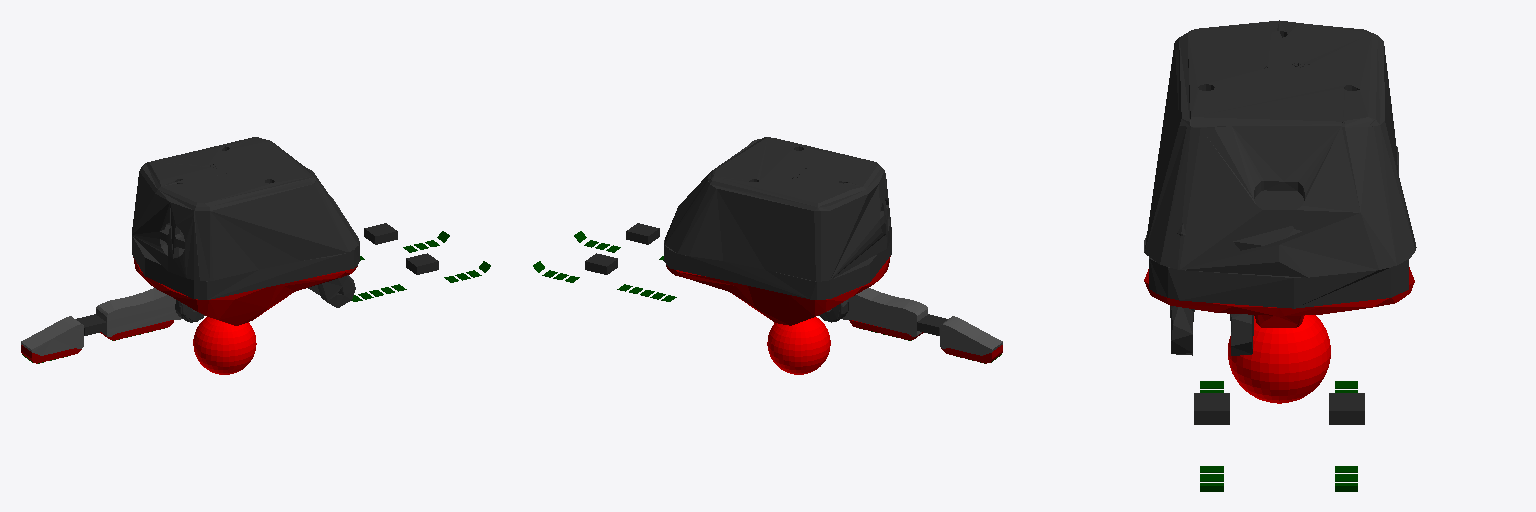
--- What the picture shows (computed from the rendered views, not written in the file) ---
Views: 3 orthographic renders of the robot side by side, from view 1: azimuth 30°, elevation 25°; view 2: azimuth 150°, elevation 25°; view 3: azimuth 270°, elevation 25°.
Model panda with 63 links and 62 joints (15 revolute, 47 fixed), rooted at panda_link0, posed all joints at 0.
Visible links, largest first — view 1: base_link, pad, end_effector, proximal_3, distal_3, swivel_2, flex_link_1, flex_link_2; view 2: base_link, pad, end_effector, proximal_3, distal_3, flex_link_2, flex_link_1; view 3: base_link, end_effector, pad, swivel_2, flex_link_1, flex_link_2.
Boxes of the visible links, x1,y1,x2,y2 form: base_link: (132, 137, 359, 322); pad: (133, 257, 357, 325); end_effector: (193, 317, 256, 374); proximal_3: (96, 288, 181, 336); distal_3: (21, 316, 83, 355); swivel_2: (308, 275, 355, 307); flex_link_1: (364, 223, 397, 244); flex_link_2: (406, 253, 438, 274); base_link: (664, 137, 891, 322); pad: (666, 256, 890, 325); end_effector: (767, 317, 830, 374); proximal_3: (842, 288, 927, 336); distal_3: (940, 316, 1002, 355); flex_link_2: (626, 223, 659, 244); flex_link_1: (585, 253, 617, 274); base_link: (1144, 20, 1416, 308); end_effector: (1228, 315, 1330, 403); pad: (1144, 267, 1414, 327); swivel_2: (1170, 306, 1253, 355); flex_link_1: (1329, 393, 1364, 424); flex_link_2: (1194, 393, 1229, 424).
Size in the robot's own frame: 0.3219 by 0.1054 by 0.14 metres.
Meshes: 24 distinct files referenced, 7 mesh visuals loaded (7 binary STL); not drawn: 17 (reference not matched to a file when rendering).

URDF robot description (panda):
<?xml version="1.0" ?>
<!-- =================================================================================== -->
<!-- |    This document was autogenerated by xacro from panda_arm_hand.urdf.xacro      | -->
<!-- |    EDITING THIS FILE BY HAND IS NOT RECOMMENDED                                 | -->
<!-- =================================================================================== -->
<robot name="panda" xmlns:xacro="http://www.ros.org/wiki/xacro">
  <link name="panda_link0">
  	<inertial>
      <origin rpy="0 0 0" xyz="0 0 0.05"/>
       <mass value="2.9"/>
       <inertia ixx="0.1" ixy="0" ixz="0" iyy="0.1" iyz="0" izz="0.1"/>
    </inertial>
    <visual>
      <geometry>
        <mesh filename="package://meshes/collision/link0.obj"/>
      </geometry>
      <material name="panda_white">
    		<color rgba="1. 1. 1. 1."/>
  		</material>
    </visual>
    <collision>
      <geometry>
        <mesh filename="package://meshes/collision/link0.obj"/>
      </geometry>
      <material name="panda_white"/>
    </collision>
  </link>
  <link name="panda_link1">
  	<inertial>
      <origin rpy="0 0 0" xyz="0 -0.04 -0.05"/>
       <mass value="2.7"/>
       <inertia ixx="0.1" ixy="0" ixz="0" iyy="0.1" iyz="0" izz="0.1"/>
    </inertial>
    <visual>
      <geometry>
        <mesh filename="package://meshes/visual/link1.obj"/>
      </geometry>
      <material name="panda_white"/>
    </visual>
    <collision>
      <geometry>
        <mesh filename="package://meshes/collision/link1.obj"/>
      </geometry>
      <material name="panda_white"/>
    </collision>
  </link>
  <joint name="panda_joint1" type="revolute">
    <safety_controller k_position="100.0" k_velocity="40.0" soft_lower_limit="-2.8973" soft_upper_limit="2.8973"/>
    <origin rpy="0 0 0" xyz="0 0 0.333"/>
    <parent link="panda_link0"/>
    <child link="panda_link1"/>
    <axis xyz="0 0 1"/>
    <limit effort="87" lower="-2.9671" upper="2.9671" velocity="2.1750"/>
  </joint>
  <link name="panda_link2">
  	<inertial>
      <origin rpy="0 0 0" xyz="0 -0.04 0.06"/>
       <mass value="2.73"/>
       <inertia ixx="0.1" ixy="0" ixz="0" iyy="0.1" iyz="0" izz="0.1"/>
    </inertial>
    <visual>
      <geometry>
        <mesh filename="package://meshes/visual/link2.obj"/>
      </geometry>
      <material name="panda_white"/>
    </visual>
    <collision>
      <geometry>
        <mesh filename="package://meshes/collision/link2.obj"/>
      </geometry>
      <material name="panda_white"/>
    </collision>
  </link>
  <joint name="panda_joint2" type="revolute">
    <safety_controller k_position="100.0" k_velocity="40.0" soft_lower_limit="-1.7628" soft_upper_limit="1.7628"/>
    <origin rpy="-1.57079632679 0 0" xyz="0 0 0"/>
    <parent link="panda_link1"/>
    <child link="panda_link2"/>
    <axis xyz="0 0 1"/>
    <limit effort="87" lower="-1.8326" upper="1.8326" velocity="2.1750"/>
  </joint>
  <link name="panda_link3">
	  <inertial>
      <origin rpy="0 0 0" xyz="0.01 0.01 -0.05"/>
       <mass value="2.04"/>
       <inertia ixx="0.1" ixy="0" ixz="0" iyy="0.1" iyz="0" izz="0.1"/>
    </inertial>
    <visual>
      <geometry>
        <mesh filename="package://meshes/visual/link3.obj"/>
      </geometry>
      <material name="panda_red">
    		<color rgba="1. 1. 1. 1."/>
  		</material>
    </visual>
    <collision>
      <geometry>
        <mesh filename="package://meshes/collision/link3.obj"/>
      </geometry>
    </collision>
  </link>
  <joint name="panda_joint3" type="revolute">
    <safety_controller k_position="100.0" k_velocity="40.0" soft_lower_limit="-2.8973" soft_upper_limit="2.8973"/>
    <origin rpy="1.57079632679 0 0" xyz="0 -0.316 0"/>
    <parent link="panda_link2"/>
    <child link="panda_link3"/>
    <axis xyz="0 0 1"/>
    <limit effort="87" lower="-2.9671" upper="2.9671" velocity="2.1750"/>
  </joint>
  <link name="panda_link4">
  	<inertial>
      <origin rpy="0 0 0" xyz="-0.03 0.03 0.02"/>
       <mass value="2.08"/>
       <inertia ixx="0.1" ixy="0" ixz="0" iyy="0.1" iyz="0" izz="0.1"/>
    </inertial>
    <visual>
      <geometry>
        <mesh filename="package://meshes/visual/link4.obj"/>
      </geometry>
      <material name="panda_white"/>
    </visual>
    <collision>
      <geometry>
        <mesh filename="package://meshes/collision/link4.obj"/>
      </geometry>
      <material name="panda_white"/>
    </collision>
  </link>
  <joint name="panda_joint4" type="revolute">
    <safety_controller k_position="100.0" k_velocity="40.0" soft_lower_limit="-3.0718" soft_upper_limit="-0.0698"/>
    <origin rpy="1.57079632679 0 0" xyz="0.0825 0 0"/>
    <parent link="panda_link3"/>
    <child link="panda_link4"/>
    <axis xyz="0 0 1"/>
    <limit effort="87" lower="-3.1416" upper="0.0" velocity="2.1750"/>
  </joint>
  <link name="panda_link5">
  	<inertial>
      <origin rpy="0 0 0" xyz="0 0.04 -0.12"/>
       <mass value="3"/>
       <inertia ixx="0.1" ixy="0" ixz="0" iyy="0.1" iyz="0" izz="0.1"/>
    </inertial>
    <visual>
      <geometry>
        <mesh filename="package://meshes/visual/link5.obj"/>
      </geometry>
      <material name="panda_white"/>
    </visual>
    <collision>
      <geometry>
        <mesh filename="package://meshes/collision/link5.obj"/>
      </geometry>
      <material name="panda_white"/>
    </collision>
  </link>
  <joint name="panda_joint5" type="revolute">
    <safety_controller k_position="100.0" k_velocity="40.0" soft_lower_limit="-2.8973" soft_upper_limit="2.8973"/>
    <origin rpy="-1.57079632679 0 0" xyz="-0.0825 0.384 0"/>
    <parent link="panda_link4"/>
    <child link="panda_link5"/>
    <axis xyz="0 0 1"/>
    <limit effort="12" lower="-2.9671" upper="2.9671" velocity="2.6100"/>
  </joint>
  <link name="panda_link6">
  	<inertial>
      <origin rpy="0 0 0" xyz="0.04 0 0"/>
       <mass value="1.3"/>
       <inertia ixx="0.1" ixy="0" ixz="0" iyy="0.1" iyz="0" izz="0.1"/>
    </inertial>
    <visual>
      <geometry>
        <mesh filename="package://meshes/visual/link6.obj"/>
      </geometry>
      <material name="panda_white"/>
    </visual>
    <collision>
      <geometry>
        <mesh filename="package://meshes/collision/link6.obj"/>
      </geometry>
      <material name="panda_white"/>
    </collision>
  </link>
  <joint name="panda_joint6" type="revolute">
    <safety_controller k_position="100.0" k_velocity="40.0" soft_lower_limit="-0.0175" soft_upper_limit="3.7525"/>
    <origin rpy="1.57079632679 0 0" xyz="0 0 0"/>
    <parent link="panda_link5"/>
    <child link="panda_link6"/>
    <axis xyz="0 0 1"/>
    <limit effort="12" lower="-0.0873" upper="3.8223" velocity="2.6100"/>
  </joint>
  <link name="panda_link7">
  	<inertial>
      <origin rpy="0 0 0" xyz="0 0 0.08"/>
       <mass value=".2"/>
       <inertia ixx="0.1" ixy="0" ixz="0" iyy="0.1" iyz="0" izz="0.1"/>
    </inertial>
    <visual>
      <geometry>
        <mesh filename="package://meshes/collision/link7.obj"/>
      </geometry>
      <material name="panda_white"/>
    </visual>
    <collision>
      <geometry>
        <mesh filename="package://meshes/collision/link7.obj"/>
      </geometry>
      <material name="panda_white"/>
    </collision>
  </link>
  <joint name="panda_joint7" type="revolute">
    <safety_controller k_position="100.0" k_velocity="40.0" soft_lower_limit="-2.8973" soft_upper_limit="2.8973"/>
    <origin rpy="1.57079632679 0 0" xyz="0.088 0 0"/>
    <parent link="panda_link6"/>
    <child link="panda_link7"/>
    <axis xyz="0 0 1"/>
    <limit effort="12" lower="-2.9671" upper="2.9671" velocity="2.6100"/>
  </joint>
  <link name="panda_link8">
  	 <inertial>
      <origin rpy="0 0 0" xyz="0 0 0"/>
       <mass value="0.0"/>
       <inertia ixx="0.1" ixy="0" ixz="0" iyy="0.1" iyz="0" izz="0.1"/>
    </inertial>
  </link>
  <joint name="panda_joint8" type="fixed">
    <origin rpy="0 0 0" xyz="0 0 0.107"/>
    <parent link="panda_link7"/>
    <child link="panda_link8"/>
    <axis xyz="0 0 0"/>
  </joint>
  
  
  
  
  
<!-- =================================================================================== -->
<!-- =================================================================================== -->
<!-- =================================================================================== -->
<!-- =================================================================================== -->
<!-- Reflex hand starts here -->


  <joint name="connecting_joint" type="fixed">
    <origin rpy="0 0 0" xyz="0 0 0"/>
    <parent link="panda_link8"/>
    <child link="base_link"/>
    <axis xyz="0 0 0"/>
  </joint>



<!-- Reflex hand starts here -->
<!-- =================================================================================== -->
<!-- =================================================================================== -->
<!-- =================================================================================== -->








<link name="flex_link_1">
    <visual>
      <origin xyz="0.008 0 0"/>
      <geometry>
        <box size="0.016 0.014 0.006"/>
      </geometry>
      <material name="dark gray">
        <color rgba="0.2 0.2 .2 1"/>
      </material>
    </visual>

    <inertial>
      <origin xyz="0.008 0 0"/>
      <mass value="0.002688"/>
      <inertia ixx="0.000000051968" ixy="0.0" ixz="0.0" iyy="0.000000065408" iyz="0.0" izz="0.000000101248"/>
    </inertial>
    <collision>
      <origin xyz="0.008 0 0"/>
      <geometry>
        <box size="0.016 0.014 0.006"/>
      </geometry>
    </collision>
  </link>
  <link name="flex_link_2">
    <visual>
      <origin xyz="0.008 0 0"/>
      <geometry>
        <box size="0.016 0.014 0.006"/>
      </geometry>
      <material name="dark gray">
        <color rgba="0.2 0.2 .2 1"/>
      </material>
    </visual>
    <!-- Mabel -->
    <inertial>
      <origin xyz="0.008 0 0"/>
      <mass value="0.002688"/>
      <inertia ixx="0.000000051968" ixy="0.0" ixz="0.0" iyy="0.000000065408" iyz="0.0" izz="0.000000101248"/>
    </inertial>
    <!-- Mabel -->
    <collision>
      <origin xyz="0.008 0 0"/>
      <geometry>
        <box size="0.016 0.014 0.006"/>
      </geometry>
    </collision>
  </link>
  <link name="flex_link_3">
    <visual>
      <origin xyz="0.008 0 0"/>
      <geometry>
        <box size="0.016 0.014 0.006"/>
      </geometry>
      <material name="dark gray">
        <color rgba="0.2 0.2 .2 1"/>
      </material>
    </visual>
    <!-- Mabel -->
    <inertial>
      <origin xyz="0.008 0 0"/>
      <mass value="0.002688"/>
      <inertia ixx="0.000000051968" ixy="0.0" ixz="0.0" iyy="0.000000065408" iyz="0.0" izz="0.000000101248"/>
    </inertial>
    <!-- Mabel -->
    <collision>
      <origin xyz="0.008 0 0"/>
      <geometry>
        <box size="0.016 0.014 0.006"/>
      </geometry>
    </collision>
  </link>
  <joint name="flex_joint_1" type="fixed">
    <parent link="proximal_1"/>
    <child link="flex_link_1"/>
    <origin xyz="0.06 0 0.003"/>
    <axis xyz="0 -1 0"/>
  </joint>
  <joint name="flex_joint_2" type="fixed">
    <parent link="proximal_2"/>
    <child link="flex_link_2"/>
    <origin xyz="0.06 0 0.003"/>
    <axis xyz="0 -1 0"/>
  </joint>
  <joint name="flex_joint_3" type="fixed">
    <parent link="proximal_3"/>
    <child link="flex_link_3"/>
    <origin xyz="0.06 0 0.003"/>
    <axis xyz="0 -1 0"/>
  </joint>
  <link name="base_link">
    <visual>
      <origin rpy="0 0 0" xyz="0 0 0"/>
      <geometry>
        <mesh filename="package://meshes/base_link.stl"/>
      </geometry>
      <material name="">
        <color rgba="0.22 0.22 0.22 1"/>
      </material>
    </visual>
    <collision>
      <origin rpy="0 0 0" xyz="0.014 0 0.051"/>
      <geometry>
        <box size="0.128 0.099 0.085"/>
      </geometry>
    </collision>
    <!-- Mabel -->
    <inertial>
      <origin xyz="0.006633 -0.000192 0.042664"/>
      <!-- Mesh Volume from MeshLab -->
      <mass value="0.271197"/>
      <inertia ixx="0.00035015" ixy="-0.00000237" ixz="-0.00000830" iyy="0.00052174" iyz="-0.00000051" izz="0.00061823"/>
    </inertial>
  </link>
  <link name="pad">
    <visual>
      <origin rpy="0 0 0" xyz="0 0 0"/>
      <geometry>
        <mesh filename="package://meshes/pad.stl"/>
      </geometry>
      <material name="">
        <color rgba="0.6 0.0 0.0 1"/>
        <!--    <color rgba="0.686 0.0706 0.8039 1"/> -->
      </material>
    </visual>
    <!-- Mabel -->
    <collision>
      <origin rpy="0 0 0" xyz="0 0 0"/>
      <geometry>
        <mesh filename="package://meshes/pad.stl"/>
      </geometry>
    </collision>
    <!-- Mabel -->
    <inertial>
      <!-- Center of Mass from MeshLab -->
      <origin xyz="0.000001 0.008858 0.013059"/>
      <!-- Mesh Volume from MeshLab -->
      <mass value="0.113819"/>
      <inertia ixx="0.00010653" ixy="-0.00000000" ixz="-0.00000001" iyy="0.00018331" iyz="-0.00000149" izz="0.00008642"/>
    </inertial>
  </link>
  <joint name="pad_joint" type="fixed">
    <origin rpy="1.5707963267949 5.55111512312578E-17 -1.5707963267949" xyz="0.02 0 0.063"/>
    <parent link="base_link"/>
    <child link="pad"/>
    <axis xyz="0 0 0"/>
  </joint>
  <link name="swivel_1">
    <visual>
      <origin rpy="0 0 0" xyz="0 0 0"/>
      <geometry>
        <mesh filename="package://meshes/swivel_1.stl"/>
      </geometry>
      <material name="">
        <color rgba="0.22 0.22 0.22 1"/>
      </material>
    </visual>
    <!-- Mabel -->
    <collision>
      <origin rpy="0 0 0" xyz="0 0 0"/>
      <geometry>
        <mesh filename="package://meshes/swivel_1.stl"/>
      </geometry>
    </collision>
    <!-- Mabel -->
    <inertial>
      <!-- Center of Mass from MeshLab -->
      <origin xyz="0.005259 -0.000001 0.011236"/>
      <!-- Mesh Volume from MeshLab -->
      <mass value="0.012584"/>
      <inertia ixx="0.00000232" ixy="0.00000000" ixz="-0.00000041" iyy="0.00000177" iyz="0.00000000" izz="0.00000237"/>
    </inertial>
  </link>
  <joint name="preshape_1" type="revolute">
    <!-- Mabel: None of the joints are really continuous. They should all be
      revolute.-->
    <!--type="continuous"-->
    <origin rpy="6.75550818663469E-16 1.97993848419069E-16 -2.77555756156289E-16" xyz="0.0503973683071414 -0.026 0.063"/>
    <parent link="base_link"/>
    <child link="swivel_1"/>
    <axis xyz="0 0 -1"/>
    <!-- Mabel. Limits from reflex/src/reflex/reflex_base_services.py PRESHAPE_MAX -->
    <limit effort="2.5" lower="0" upper="1.6" velocity="1.0"/>
  </joint>
  <link name="proximal_1">
    <visual>
      <origin rpy="0 0 0" xyz="0 0 0"/>
      <geometry>
        <mesh filename="package://meshes/proximal_1.stl"/>
      </geometry>
      <material name="">
        <color rgba="0.35 0.35 0.35 1"/>
      </material>
    </visual>
    <!-- Mabel -->
    <collision>
      <origin rpy="0 0 0" xyz="0 0 0"/>
      <geometry>
        <mesh filename="package://meshes/proximal_1.stl"/>
      </geometry>
    </collision>
    <!-- Mabel -->
    <inertial>
      <!-- Center of Mass from MeshLab -->
      <origin xyz="0.024094 0.000000 0.000819"/>
      <!-- Mesh Volume from MeshLab -->
      <mass value="0.017012"/>
      <inertia ixx="0.00000076" ixy="-0.00000000" ixz="-0.00000023" iyy="0.00000735" iyz="-0.00000000" izz="0.00000714"/>
    </inertial>
  </link>
  <joint name="proximal_joint_1" type="revolute">
    <!--type="continuous"-->
    <origin rpy="-6.20039667432211E-16 2.40507565059625E-17 2.22044604925031E-16" xyz="0.01 0 0.0186"/>
    <parent link="swivel_1"/>
    <child link="proximal_1"/>
    <axis xyz="0 -1 0"/>
    <!-- Mabel -->
    <limit effort="2.5" lower="0" upper="3.14" velocity="1.0"/>
  </joint>
  <link name="proximal_pad_1">
    <visual>
      <origin rpy="0 0 0" xyz="0 0 0"/>
      <geometry>
        <mesh filename="package://meshes/proximal_pad_1.stl"/>
      </geometry>
      <material name="">
        <color rgba="0.6 0.0 0.0 1"/>
        <!--    <color rgba="0.686 0.0706 0.8039 1"/> -->
      </material>
    </visual>
    <!-- Mabel -->
    <collision>
      <origin rpy="0 0 0" xyz="0 0 0"/>
      <geometry>
        <mesh filename="package://meshes/proximal_pad_1.stl"/>
      </geometry>
    </collision>
    <!-- Mabel -->
    <inertial>
      <!-- Center of Mass from MeshLab -->
      <origin xyz="0.000000 0.012215 -0.034120"/>
      <!-- Mesh Volume from MeshLab -->
      <mass value="0.003393"/>
      <inertia ixx="0.00000057" ixy="-0.0" ixz="-0.0" iyy="0.00000061" iyz="0.0" izz="0.00000006"/>
    </inertial>
  </link>
  <joint name="prox1_pad_joint" type="fixed">
    <origin rpy="1.5707963267949 0 -1.5707963267949" xyz="0 0 0"/>
    <parent link="proximal_1"/>
    <child link="proximal_pad_1"/>
    <axis xyz="0 0 0"/>
  </joint>
  <link name="distal_1">
    <visual>
      <origin rpy="0 0 0" xyz="0 0 0"/>
      <geometry>
        <mesh filename="package://meshes/distal_1.stl"/>
      </geometry>
      <material name="">
        <color rgba="0.35 0.35 0.35 1"/>
      </material>
    </visual>
    <!-- Mabel -->
    <collision>
      <origin rpy="0 0 0" xyz="0 0 0"/>
      <geometry>
        <mesh filename="package://meshes/distal_1.stl"/>
      </geometry>
    </collision>
    <!-- Mabel -->
    <inertial>
      <!-- Center of Mass from MeshLab -->
      <origin xyz="0.015422 -0.000000 0.000877"/>
      <!-- Mesh Volume from MeshLab -->
      <mass value="0.005978"/>
      <inertia ixx="0.00000019" ixy="-0.0" ixz="-0.00000006" iyy="0.00000070" iyz="0.0" izz="0.00000071"/>
    </inertial>
  </link>
  <joint name="distal_joint_1" type="revolute">
    <!--type="continuous"-->
    <!--origin
      xyz="0.0760000000000001} 0 0.00250000000000002"
      rpy="0 0 0" />
    <parent
      link="proximal_1" /-->
    <!-- Mabel, after adding rigid link btw proximal and distal links. Since
       distal link cannot have two parents (violates SDF and Gazebo rules),
       flex link and proximal link cannot both be distal's parent. So we need
       to link in serial like so, not in parallel:
         proximal -> prox_to_flex_joint -> flex_link -> flex_to_distal_joint
           -> distal.
       We'll ust the distal_joint_# as the joint from flex to distal.
       Joint from prox to flex, and flex_link, are at top of file.
     -->
    <origin rpy="0 0 0" xyz="0.016 0 0.00250000000000002"/>
    <parent link="flex_link_1"/>
    <child link="distal_1"/>
    <axis xyz="0 -1 0"/>
    <!-- Mabel -->
    <limit effort="0.25" lower="0" upper="2.74" velocity="1.0"/>
  </joint>
  <link name="distal_pad_1">
    <visual>
      <origin rpy="0 0 0" xyz="0 0 0"/>
      <geometry>
        <mesh filename="package://meshes/distal_pad_1.stl"/>
      </geometry>
      <material name="">
        <color rgba="0.6 0.0 0.0 1"/>
        <!--    <color rgba="0.686 0.0706 0.8039 1"/> -->
      </material>
    </visual>
    <!-- Mabel -->
    <collision>
      <origin rpy="0 0 0" xyz="0 0 0"/>
      <geometry>
        <mesh filename="package://meshes/distal_pad_1.stl"/>
      </geometry>
    </collision>
    <!-- Mabel -->
    <inertial>
      <!-- Center of Mass from MeshLab -->
      <origin xyz="0.000000 0.011884 -0.097534"/>
      <!-- Mesh Volume from MeshLab -->
      <mass value="0.002782"/>
      <inertia ixx="0.00000030" ixy="-0.0" ixz="0.0" iyy="0.00000034" iyz="-0.00000002" izz="0.00000005"/>
    </inertial>
  </link>
  <joint name="dist1_pad_joint" type="fixed">
    <origin rpy="1.5707963267949 0 -1.5707963267949" xyz="-0.0760000000000001 0 -0.0025"/>
    <parent link="distal_1"/>
    <child link="distal_pad_1"/>
    <axis xyz="0 0 0"/>
  </joint>
  <link name="swivel_2">
    <visual>
      <origin rpy="0 0 0" xyz="0 0 0"/>
      <geometry>
        <mesh filename="package://meshes/swivel_2.stl"/>
      </geometry>
      <material name="">
        <color rgba="0.22 0.22 0.22 1"/>
      </material>
    </visual>
    <!-- Mabel -->
    <collision>
      <origin rpy="0 0 0" xyz="0 0 0"/>
      <geometry>
        <mesh filename="package://meshes/swivel_2.stl"/>
      </geometry>
    </collision>
    <!-- Mabel -->
    <inertial>
      <!-- Center of Mass from MeshLab -->
      <origin xyz="0.005259 -0.000001 0.011236"/>
      <!-- Mesh Volume from MeshLab -->
      <mass value="0.012584"/>
      <inertia ixx="0.00000232" ixy="0.0" ixz="-0.00000041" iyy="0.00000177" iyz="0.0" izz="0.00000237"/>
    </inertial>
  </link>
  <joint name="preshape_2" type="revolute">
    <!--type="continuous"-->
    <origin rpy="1.22459340959228E-15 -7.33448407631817E-16 -1.66533453693773E-16" xyz="0.0503973683071413 0.0259999999999999 0.063"/>
    <parent link="base_link"/>
    <child link="swivel_2"/>
    <axis xyz="0 0 -1"/>
    <!-- Mabel. Limits from reflex/src/reflex/reflex_base_services.py PRESHAPE_MAX -->
    <limit effort="2.5" lower="-1.6" upper="0" velocity="1.0"/>
  </joint>
  <link name="proximal_2">
    <visual>
      <origin rpy="0 0 0" xyz="0 0 0"/>
      <geometry>
        <mesh filename="package://meshes/proximal_2.stl"/>
      </geometry>
      <material name="">
        <color rgba="0.35 0.35 0.35 1"/>
      </material>
    </visual>
    <!-- Mabel -->
    <collision>
      <origin rpy="0 0 0" xyz="0 0 0"/>
      <geometry>
        <mesh filename="package://meshes/proximal_2.stl"/>
      </geometry>
    </collision>
    <!-- Mabel -->
    <inertial>
      <!-- Center of Mass from MeshLab -->
      <origin xyz="0.024094 0.000000 0.000819"/>
      <!-- Mesh Volume from MeshLab -->
      <mass value="0.017012"/>
      <inertia ixx="0.00000076" ixy="-0.0" ixz="-0.00000023" iyy="0.00000735" iyz="-0.0" izz="0.00000714"/>
    </inertial>
  </link>
  <joint name="proximal_joint_2" type="revolute">
    <!--type="continuous"-->
    <origin rpy="-1.16908225836102E-15 9.55493012556849E-16 1.11022302462515E-16" xyz="0.01 0 0.0186"/>
    <parent link="swivel_2"/>
    <child link="proximal_2"/>
    <axis xyz="0 -1 0"/>
    <!-- Mabel -->
    <limit effort="2.5" lower="0" upper="3.14" velocity="1.0"/>
  </joint>
  <link name="proximal_pad_2">
    <visual>
      <origin rpy="0 0 0" xyz="0 0 0"/>
      <geometry>
        <mesh filename="package://meshes/proximal_pad_2.stl"/>
      </geometry>
      <material name="">
        <color rgba="0.6 0.0 0.0 1"/>
        <!--    <color rgba="0.686 0.0706 0.8039 1"/> -->
      </material>
    </visual>
    <!-- Mabel -->
    <collision>
      <origin rpy="0 0 0" xyz="0 0 0"/>
      <geometry>
        <mesh filename="package://meshes/proximal_pad_2.stl"/>
      </geometry>
    </collision>
    <!-- Mabel -->
    <inertial>
      <!-- Center of Mass from MeshLab -->
      <origin xyz="0.000000 0.012215 -0.034120"/>
      <!-- Mesh Volume from MeshLab -->
      <mass value="0.003393"/>
      <inertia ixx="0.00000057" ixy="-0.0" ixz="-0.0" iyy="0.00000061" iyz="0.0" izz="0.00000006"/>
    </inertial>
  </link>
  <joint name="prox2_pad_joint" type="fixed">
    <origin rpy="1.5707963267949 0 -1.5707963267949" xyz="0 0 0"/>
    <parent link="proximal_2"/>
    <child link="proximal_pad_2"/>
    <axis xyz="0 0 0"/>
  </joint>
  <link name="distal_2">
    <visual>
      <origin rpy="0 0 0" xyz="0 0 0"/>
      <geometry>
        <mesh filename="package://meshes/distal_2.stl"/>
      </geometry>
      <material name="">
        <color rgba="0.35 0.35 0.35 1"/>
      </material>
    </visual>
    <!-- Mabel -->
    <collision>
      <origin rpy="0 0 0" xyz="0 0 0"/>
      <geometry>
        <mesh filename="package://meshes/distal_2.stl"/>
      </geometry>
    </collision>
    <!-- Mabel -->
    <inertial>
      <!-- Center of Mass from MeshLab -->
      <origin xyz="0.015422 -0.000000 0.000877"/>
      <!-- Mesh Volume from MeshLab -->
      <mass value="0.005978"/>
      <inertia ixx="0.00000019" ixy="-0.0" ixz="-0.00000006" iyy="0.00000070" iyz="0.0" izz="0.00000071"/>
    </inertial>
  </link>
  <joint name="distal_joint_2" type="revolute">
    <!--type="continuous"-->
    <!--origin
      xyz="0.0760000000000001 0 0.00249999999999997"
      rpy="0 0 0" />
    <parent
      link="proximal_2" /-->
    <!-- Mabel -->
    <origin rpy="0 0 0" xyz="0.016 0 0.00249999999999997"/>
    <parent link="flex_link_2"/>
    <child link="distal_2"/>
    <axis xyz="0 -1 0"/>
    <!-- Mabel -->
    <limit effort="0.25" lower="0" upper="2.74" velocity="1.0"/>
  </joint>
  <link name="distal_pad_2">
    <visual>
      <origin rpy="0 0 0" xyz="0 0 0"/>
      <geometry>
        <mesh filename="package://meshes/distal_pad_2.stl"/>
      </geometry>
      <material name="">
        <color rgba="0.6 0.0 0.0 1"/>
        <!--    <color rgba="0.686 0.0706 0.8039 1"/> -->
      </material>
    </visual>
    <!-- Mabel -->
    <collision>
      <origin rpy="0 0 0" xyz="0 0 0"/>
      <geometry>
        <mesh filename="package://meshes/distal_pad_2.stl"/>
      </geometry>
    </collision>
    <!-- Mabel -->
    <inertial>
      <!-- Center of Mass from MeshLab -->
      <origin xyz="0.000000 0.011884 -0.097534"/>
      <!-- Mesh Volume from MeshLab -->
      <mass value="0.002782"/>
      <inertia ixx="0.00000030" ixy="-0.0" ixz="0.0" iyy="0.00000034" iyz="-0.00000002" izz="0.00000005"/>
    </inertial>
  </link>
  <joint name="dist2_pad_joint" type="fixed">
    <origin rpy="1.5707963267949 0 -1.5707963267949" xyz="-0.0760000000000001 0 -0.0025"/>
    <parent link="distal_2"/>
    <child link="distal_pad_2"/>
    <axis xyz="0 0 0"/>
  </joint>
  <link name="proximal_3">
    <visual>
      <origin rpy="0 0 0" xyz="0 0 0"/>
      <geometry>
        <mesh filename="package://meshes/proximal_3.stl"/>
      </geometry>
      <material name="">
        <color rgba="0.35 0.35 0.35 1"/>
      </material>
    </visual>
    <!-- Mabel -->
    <collision>
      <origin rpy="0 0 0" xyz="0 0 0"/>
      <geometry>
        <mesh filename="package://meshes/proximal_3.stl"/>
      </geometry>
    </collision>
    <!-- Mabel -->
    <inertial>
      <!-- Center of Mass from MeshLab -->
      <origin xyz="0.024094 0.000000 0.000819"/>
      <!-- Mesh Volume from MeshLab -->
      <mass value="0.017012"/>
      <inertia ixx="0.00000076" ixy="-0.0" ixz="-0.00000023" iyy="0.00000735" iyz="-0.0" izz="0.00000714"/>
    </inertial>
  </link>
  <joint name="proximal_joint_3" type="revolute">
    <!--type="continuous"-->
    <origin rpy="-5.55111512312578E-17 -2.22044604925031E-16 3.14159265358979" xyz="-0.0299999999999996 0 0.0816000000000002"/>
    <parent link="base_link"/>
    <child link="proximal_3"/>
    <axis xyz="0 -1 0"/>
    <!-- Mabel -->
    <limit effort="2.5" lower="0" upper="3.14" velocity="1.0"/>
  </joint>
  <link name="proximal_pad_3">
    <visual>
      <origin rpy="0 0 0" xyz="0 0 0"/>
      <geometry>
        <mesh filename="package://meshes/proximal_pad_3.stl"/>
      </geometry>
      <material name="">
        <color rgba="0.6 0.0 0.0 1"/>
        <!--    <color rgba="0.686 0.0706 0.8039 1"/> -->
      </material>
    </visual>
    <!-- Mabel -->
    <collision>
      <origin rpy="0 0 0" xyz="0 0 0"/>
      <geometry>
        <mesh filename="package://meshes/proximal_pad_3.stl"/>
      </geometry>
    </collision>
    <!-- Mabel -->
    <inertial>
      <!-- Center of Mass from MeshLab -->
      <origin xyz="0.000000 0.012215 -0.034120"/>
      <!-- Mesh Volume from MeshLab -->
      <mass value="0.003393"/>
      <inertia ixx="0.00000057" ixy="-0.0" ixz="-0.0" iyy="0.00000061" iyz="0.0" izz="0.00000006"/>
    </inertial>
  </link>
  <joint name="prox3_pad_joint" type="fixed">
    <origin rpy="1.5707963267949 1.22460635382238E-16 -1.5707963267949" xyz="0 0 0"/>
    <parent link="proximal_3"/>
    <child link="proximal_pad_3"/>
    <axis xyz="0 0 0"/>
  </joint>
  <link name="distal_3">
    <visual>
      <origin rpy="0 0 0" xyz="0 0 0"/>
      <geometry>
        <mesh filename="package://meshes/distal_3.stl"/>
      </geometry>
      <material name="">
        <color rgba="0.35 0.35 0.35 1"/>
      </material>
    </visual>
    <!-- Mabel -->
    <collision>
      <origin rpy="0 0 0" xyz="0 0 0"/>
      <geometry>
        <mesh filename="package://meshes/distal_3.stl"/>
      </geometry>
    </collision>
    <!-- Mabel -->
    <inertial>
      <!-- Center of Mass from MeshLab -->
      <origin xyz="0.015422 -0.000000 0.000877"/>
      <!-- Mesh Volume from MeshLab -->
      <mass value="0.005978"/>
      <inertia ixx="0.00000019" ixy="-0.0" ixz="-0.00000006" iyy="0.00000070" iyz="0.0" izz="0.00000071"/>
    </inertial>
  </link>
  <joint name="distal_joint_3" type="revolute">
    <!--type="continuous"-->
    <!--origin
      xyz="0.0760000000000001 0 0.0025"
      rpy="-1.48887961834512E-45 -1.0995850059156E-76 -7.38531841236285E-32" />
    <parent
      link="proximal_3" /-->
    <!-- Mabel -->
    <origin rpy="0 0 0" xyz="0.016 0 0.0025"/>
    <parent link="flex_link_3"/>
    <child link="distal_3"/>
    <axis xyz="0 -1 0"/>
    <!-- Mabel -->
    <limit effort="0.25" lower="0" upper="2.74" velocity="1.0"/>
  </joint>
  <link name="distal_pad_3">
    <visual>
      <origin rpy="0 0 0" xyz="0 0 0"/>
      <geometry>
        <mesh filename="package://meshes/distal_pad_3.stl"/>
      </geometry>
      <material name="">
        <color rgba="0.6 0.0 0.0 1"/>
        <!--    <color rgba="0.686 0.0706 0.8039 1"/> -->
      </material>
    </visual>
    <!-- Mabel -->
    <collision>
      <origin rpy="0 0 0" xyz="0 0 0"/>
      <geometry>
        <mesh filename="package://meshes/distal_pad_3.stl"/>
      </geometry>
    </collision>
    <!-- Mabel -->
    <inertial>
      <!-- Center of Mass from MeshLab -->
      <origin xyz="0.000000 0.011884 -0.097534"/>
      <!-- Mesh Volume from MeshLab -->
      <mass value="0.002782"/>
      <inertia ixx="0.00000030" ixy="-0.0" ixz="0.0" iyy="0.00000034" iyz="-0.00000002" izz="0.00000005"/>
    </inertial>
  </link>
  <joint name="dist3_pad_joint" type="fixed">
    <origin rpy="1.5707963267949 -1.22460635382238E-16 -1.5707963267949" xyz="-0.0760000000000001 0 -0.0025"/>
    <parent link="distal_3"/>
    <child link="distal_pad_3"/>
    <axis xyz="0 0 0"/>
  </joint>
  <!-- ################ ################ ################ ################ ################ ################ -->
  <!-- ################ THIS SECTION LINKS THE MARKERS (TACTILE DATA) TO THE CAD MESH ################ -->
  <!-- ################ COPY AND PASTE THIS FROM urdf/homemade_marker_portion_urdf  ################ -->
  <!-- ################ ################ ################ ################ ################ ################ -->
  <joint name="base_tactile_joint" type="fixed">
    <origin rpy="0 0 0" xyz="0 0 0"/>
    <parent link="base_link"/>
    <child link="base_tactile"/>
  </joint>
  <link name="base_tactile"/>
  <link name="proximal_1_tactile">
    <!-- Mabel: Added nonzero mass so link doesn't disappear in SDF -->
    <inertial>
      <mass value="0.001"/>
      <inertia ixx="0.000000001" ixy="0.0" ixz="0.0" iyy="0.000000001" iyz="0.0" izz="0.000000001"/>
    </inertial>
  </link>
  <!-- Mabel: Defining as explicit revolute, with 0 limits, so child link shows
    up explicitly in SDF. Original all _tactile_joint's were type fixed.
    But defining as revolute means someone (hand_visualizer.cpp) needs to
    publish the joint values of these joints to /joint_states, otherwise
    they will not have a tf!!!
    Changing back to fixed type. `.` I don't know if I need them to be
    revolute. Why did I want them to show up in sdf anyway? Probably just
    for debugging when I was still developing this file to be Gazebo-legal!
    Probably don't need these to be revolute. -->
  <!--joint name="proximal_1_tactile_joint" type="revolute"-->
  <joint name="proximal_1_tactile_joint" type="fixed">
    <origin rpy="0 0 0" xyz="0 0 0"/>
    <parent link="proximal_1"/>
    <child link="proximal_1_tactile"/>
    <!--limit effort="0" velocity="0" lower="0" upper="0" /-->
  </joint>
  <!--joint name="proximal_2_tactile_joint" type="revolute"-->
  <joint name="proximal_2_tactile_joint" type="fixed">
    <origin rpy="0 0 0" xyz="0 0 0"/>
    <parent link="proximal_2"/>
    <child link="proximal_2_tactile"/>
    <!--limit effort="0" velocity="0" lower="0" upper="0" /-->
  </joint>
  <link name="proximal_2_tactile">
    <!-- Mabel: Added nonzero mass so link doesn't disappear in SDF -->
    <inertial>
      <mass value="0.001"/>
      <inertia ixx="0.000000001" ixy="0.0" ixz="0.0" iyy="0.000000001" iyz="0.0" izz="0.000000001"/>
    </inertial>
  </link>
  <!-- 24 Jan 2017: Changing back to fixed, so they show up in robot tree -->
  <!--joint name="proximal_3_tactile_joint" type="revolute"-->
  <joint name="proximal_3_tactile_joint" type="fixed">
    <origin rpy="0 0 0" xyz="0 0 0"/>
    <parent link="proximal_3"/>
    <child link="proximal_3_tactile"/>
    <!--limit effort="0" velocity="0" lower="0" upper="0" /-->
  </joint>
  <link name="proximal_3_tactile">
    <!-- Mabel: Added nonzero mass so link doesn't disappear in SDF -->
    <inertial>
      <mass value="0.001"/>
      <inertia ixx="0.000000001" ixy="0.0" ixz="0.0" iyy="0.000000001" iyz="0.0" izz="0.000000001"/>
    </inertial>
  </link>
  <!-- 24 Jan 2017: Changing back to fixed, so they show up in robot tree -->
  <!--joint name="distal_1_tactile_joint" type="revolute"-->
  <joint name="distal_1_tactile_joint" type="fixed">
    <origin rpy="0 0 0" xyz="0 0 0"/>
    <parent link="distal_1"/>
    <child link="distal_1_tactile"/>
    <!--limit effort="0" velocity="0" lower="0" upper="0" /-->
  </joint>
  <link name="distal_1_tactile">
    <!-- Mabel: Added nonzero mass so link doesn't disappear in SDF -->
    <inertial>
      <mass value="0.001"/>
      <inertia ixx="0.000000001" ixy="0.0" ixz="0.0" iyy="0.000000001" iyz="0.0" izz="0.000000001"/>
    </inertial>
  </link>
  <!-- 24 Jan 2017: Why isn't this revolute??? Did I just forget about it?? TODO
    That is why in rosrun tf view_frames frames.pdf, distal_2 and distal_3 have
    children distal_2_tactile and distal_3_tactile, but distal_1 doesn't!!!!
    The fixed type joints are directly taken as joint values. But the revolute
    type joints require a publisher for the joint values onto /joint_states,
    which is hand_visualizer_sim.cpp's job. -->
  <joint name="distal_2_tactile_joint" type="fixed">
    <origin rpy="0 0 0" xyz="0 0 0"/>
    <parent link="distal_2"/>
    <child link="distal_2_tactile"/>
  </joint>
  <link name="distal_2_tactile">
    <!-- Mabel: Added nonzero mass so link doesn't disappear in SDF -->
    <inertial>
      <mass value="0.001"/>
      <inertia ixx="0.000000001" ixy="0.0" ixz="0.0" iyy="0.000000001" iyz="0.0" izz="0.000000001"/>
    </inertial>
  </link>
  <!-- 24 Jan 2017: Why isn't this revolute??? Did I just forget about it?? TODO -->
  <joint name="distal_3_tactile_joint" type="fixed">
    <origin rpy="0 0 0" xyz="0 0 0"/>
    <parent link="distal_3"/>
    <child link="distal_3_tactile"/>
  </joint>
  <link name="distal_3_tactile">
    <!-- Mabel: Added nonzero mass so link doesn't disappear in SDF -->
    <inertial>
      <mass value="0.001"/>
      <inertia ixx="0.000000001" ixy="0.0" ixz="0.0" iyy="0.000000001" iyz="0.0" izz="0.000000001"/>
    </inertial>
  </link>

  <joint name="prox_1_tactile_to_sensor_1" type="fixed">
    <origin xyz="0.019 0 0.015"/>
    <parent link="proximal_1_tactile"/>
    <child link="Proximal_1/sensor_1"/>
  </joint>
  <joint name="prox_1_tactile_to_sensor_2" type="fixed">
    <origin xyz="0.027 0 0.015"/>
    <parent link="proximal_1_tactile"/>
    <child link="Proximal_1/sensor_2"/>
  </joint>
  <joint name="prox_1_tactile_to_sensor_3" type="fixed">
    <origin xyz="0.035 0 0.015"/>
    <parent link="proximal_1_tactile"/>
    <child link="Proximal_1/sensor_3"/>
  </joint>
  <joint name="prox_1_tactile_to_sensor_4" type="fixed">
    <origin xyz="0.043 0 0.015"/>
    <parent link="proximal_1_tactile"/>
    <child link="Proximal_1/sensor_4"/>
  </joint>
  <joint name="prox_1_tactile_to_sensor_5" type="fixed">
    <origin xyz="0.051000000000000004 0 0.015"/>
    <parent link="proximal_1_tactile"/>
    <child link="Proximal_1/sensor_5"/>
  </joint>
  <joint name="prox_2_tactile_to_sensor_1" type="fixed">
    <origin xyz="0.019 0 0.015"/>
    <parent link="proximal_2_tactile"/>
    <child link="Proximal_2/sensor_1"/>
  </joint>
  <joint name="prox_2_tactile_to_sensor_2" type="fixed">
    <origin xyz="0.027 0 0.015"/>
    <parent link="proximal_2_tactile"/>
    <child link="Proximal_2/sensor_2"/>
  </joint>
  <joint name="prox_2_tactile_to_sensor_3" type="fixed">
    <origin xyz="0.035 0 0.015"/>
    <parent link="proximal_2_tactile"/>
    <child link="Proximal_2/sensor_3"/>
  </joint>
  <joint name="prox_2_tactile_to_sensor_4" type="fixed">
    <origin xyz="0.043 0 0.015"/>
    <parent link="proximal_2_tactile"/>
    <child link="Proximal_2/sensor_4"/>
  </joint>
  <joint name="prox_2_tactile_to_sensor_5" type="fixed">
    <origin xyz="0.051000000000000004 0 0.015"/>
    <parent link="proximal_2_tactile"/>
    <child link="Proximal_2/sensor_5"/>
  </joint>
  <joint name="prox_3_tactile_to_sensor_1" type="fixed">
    <origin xyz="0.019 0 0.015"/>
    <parent link="proximal_3_tactile"/>
    <child link="Proximal_3/sensor_1"/>
  </joint>
  <joint name="prox_3_tactile_to_sensor_2" type="fixed">
    <origin xyz="0.027 0 0.015"/>
    <parent link="proximal_3_tactile"/>
    <child link="Proximal_3/sensor_2"/>
  </joint>
  <joint name="prox_3_tactile_to_sensor_3" type="fixed">
    <origin xyz="0.035 0 0.015"/>
    <parent link="proximal_3_tactile"/>
    <child link="Proximal_3/sensor_3"/>
  </joint>
  <joint name="prox_3_tactile_to_sensor_4" type="fixed">
    <origin xyz="0.043 0 0.015"/>
    <parent link="proximal_3_tactile"/>
    <child link="Proximal_3/sensor_4"/>
  </joint>
  <joint name="prox_3_tactile_to_sensor_5" type="fixed">
    <origin xyz="0.051000000000000004 0 0.015"/>
    <parent link="proximal_3_tactile"/>
    <child link="Proximal_3/sensor_5"/>
  </joint>
  <!-- Positions of sensors 6 to 9, all on distal link -->
  <joint name="dist_1_tactile_to_sensor_1" type="fixed">
    <origin xyz="0.013499999999999998 0 0.009"/>
    <parent link="distal_1_tactile"/>
    <child link="Distal_1/sensor_1"/>
  </joint>
  <joint name="dist_1_tactile_to_sensor_2" type="fixed">
    <origin xyz="0.0215 0 0.009"/>
    <parent link="distal_1_tactile"/>
    <child link="Distal_1/sensor_2"/>
  </joint>
  <joint name="dist_1_tactile_to_sensor_3" type="fixed">
    <origin xyz="0.0295 0 0.009"/>
    <parent link="distal_1_tactile"/>
    <child link="Distal_1/sensor_3"/>
  </joint>
  <joint name="dist_1_tactile_to_sensor_4" type="fixed">
    <origin xyz="0.0375 0 0.009"/>
    <parent link="distal_1_tactile"/>
    <child link="Distal_1/sensor_4"/>
  </joint>
  <joint name="dist_2_tactile_to_sensor_1" type="fixed">
    <origin xyz="0.013499999999999998 0 0.009"/>
    <parent link="distal_2_tactile"/>
    <child link="Distal_2/sensor_1"/>
  </joint>
  <joint name="dist_2_tactile_to_sensor_2" type="fixed">
    <origin xyz="0.0215 0 0.009"/>
    <parent link="distal_2_tactile"/>
    <child link="Distal_2/sensor_2"/>
  </joint>
  <joint name="dist_2_tactile_to_sensor_3" type="fixed">
    <origin xyz="0.0295 0 0.009"/>
    <parent link="distal_2_tactile"/>
    <child link="Distal_2/sensor_3"/>
  </joint>
  <joint name="dist_2_tactile_to_sensor_4" type="fixed">
    <origin xyz="0.0375 0 0.009"/>
    <parent link="distal_2_tactile"/>
    <child link="Distal_2/sensor_4"/>
  </joint>
  <joint name="dist_3_tactile_to_sensor_1" type="fixed">
    <origin xyz="0.013499999999999998 0 0.009"/>
    <parent link="distal_3_tactile"/>
    <child link="Distal_3/sensor_1"/>
  </joint>
  <joint name="dist_3_tactile_to_sensor_2" type="fixed">
    <origin xyz="0.0215 0 0.009"/>
    <parent link="distal_3_tactile"/>
    <child link="Distal_3/sensor_2"/>
  </joint>
  <joint name="dist_3_tactile_to_sensor_3" type="fixed">
    <origin xyz="0.0295 0 0.009"/>
    <parent link="distal_3_tactile"/>
    <child link="Distal_3/sensor_3"/>
  </joint>
  <joint name="dist_3_tactile_to_sensor_4" type="fixed">
    <origin xyz="0.0375 0 0.009"/>
    <parent link="distal_3_tactile"/>
    <child link="Distal_3/sensor_4"/>
  </joint>
  <!-- Define the actual sensors, as links positioned at 0 0 0 (real positions
     already defined by joints). -->
  <link name="Proximal_1/sensor_1">
    <inertial>
      <mass value="0.00001"/>
      <inertia ixx="0.00000000001" ixy="0.0" ixz="0.0" iyy="0.00000000001" iyz="0.0" izz="0.00000000001"/>
    </inertial>
    <visual>
      <origin rpy="0 0 0" xyz="0 0 0.00045"/>
      <geometry>
        <box size="0.006 0.009 0.0003"/>
      </geometry>
      <material name="sensor">
        <color rgba="0 0.3 0 1"/>
      </material>
    </visual>      <material name="sensor">
        <color rgba="0 0.3 0 1"/>
      </material>
    <collision>
      <origin rpy="0 0 0" xyz="0 0 0.00045"/>
      <geometry>
        <box size="0.006 0.009 0.0003"/>
      </geometry>
      <material name="sensor">
        <color rgba="0 0.3 0 1"/>
      </material>
    </collision>
  </link>
  <link name="Proximal_1/sensor_2">
    <inertial>
      <mass value="0.00001"/>
      <inertia ixx="0.00000000001" ixy="0.0" ixz="0.0" iyy="0.00000000001" iyz="0.0" izz="0.00000000001"/>
    </inertial>
    <visual>
      <origin rpy="0 0 0" xyz="0 0 0.00045"/>
      <geometry>
        <box size="0.006 0.009 0.0003"/>
      </geometry>
            <material name="sensor">
        <color rgba="0 0.3 0 1"/>
      </material>
    </visual>
    <collision>
      <origin rpy="0 0 0" xyz="0 0 0.00045"/>
      <geometry>
        <box size="0.006 0.009 0.0003"/>
      </geometry>
    </collision>
  </link>
  <link name="Proximal_1/sensor_3">
    <inertial>
      <mass value="0.00001"/>
      <inertia ixx="0.00000000001" ixy="0.0" ixz="0.0" iyy="0.00000000001" iyz="0.0" izz="0.00000000001"/>
    </inertial>
    <visual>
      <origin rpy="0 0 0" xyz="0 0 0.00045"/>
      <geometry>
        <box size="0.006 0.009 0.0003"/>
      </geometry>
      <material name="sensor">
        <color rgba="0 0.3 0 1"/>
      </material>
    </visual>
    <collision>
      <origin rpy="0 0 0" xyz="0 0 0.00045"/>
      <geometry>
        <box size="0.006 0.009 0.0003"/>
      </geometry>
      <material name="sensor">
        <color rgba="0 0.3 0 1"/>
      </material>
    </collision>
  </link>
  <link name="Proximal_1/sensor_4">
    <inertial>
      <mass value="0.00001"/>
      <inertia ixx="0.00000000001" ixy="0.0" ixz="0.0" iyy="0.00000000001" iyz="0.0" izz="0.00000000001"/>
    </inertial>
    <visual>
      <origin rpy="0 0 0" xyz="0 0 0.00045"/>
      <geometry>
        <box size="0.006 0.009 0.0003"/>
      </geometry>
            <material name="sensor">
        <color rgba="0 0.3 0 1"/>
      </material>
    </visual>
    <collision>
      <origin rpy="0 0 0" xyz="0 0 0.00045"/>
      <geometry>
        <box size="0.006 0.009 0.0003"/>
      </geometry>
    </collision>
  </link>
  
  <link name="Proximal_1/sensor_5">
    <inertial>
      <mass value="0.00001"/>
      <inertia ixx="0.00000000001" ixy="0.0" ixz="0.0" iyy="0.00000000001" iyz="0.0" izz="0.00000000001"/>
    </inertial>
    <visual>
      <origin rpy="0 0 0" xyz="0 0 0.00045"/>
      <geometry>
        <box size="0.006 0.009 0.0003"/>
      </geometry>
            <material name="sensor">
        <color rgba="0 0.3 0 1"/>
      </material>
    </visual>
    <collision>
      <origin rpy="0 0 0" xyz="0 0 0.00045"/>
      <geometry>
        <box size="0.006 0.009 0.0003"/>
      </geometry>
    </collision>
  </link>
  <link name="Distal_1/sensor_1">
    <inertial>
      <mass value="0.00001"/>
      <inertia ixx="0.00000000001" ixy="0.0" ixz="0.0" iyy="0.00000000001" iyz="0.0" izz="0.00000000001"/>
    </inertial>
    <visual>
      <origin rpy="0 0 0" xyz="0 0 0.004"/>
      <geometry>
        <box size="0.006 0.009 0.0003"/>
      </geometry>
      <material name="sensor">
        <color rgba="0 0.3 0 1"/>
      </material>
    </visual>
    <collision>
      <origin rpy="0 0 0" xyz="0 0 0.004"/>
      <geometry>
        <box size="0.006 0.009 0.0003"/>
      </geometry>
    </collision>
  </link>
  <link name="Distal_1/sensor_2">
    <inertial>
      <mass value="0.00001"/>
      <inertia ixx="0.00000000001" ixy="0.0" ixz="0.0" iyy="0.00000000001" iyz="0.0" izz="0.00000000001"/>
    </inertial>
    <visual>
      <origin rpy="0 0 0" xyz="0 0 0.004"/>
      <geometry>
        <box size="0.006 0.009 0.0003"/>
      </geometry>
            <material name="sensor">
        <color rgba="0 0.3 0 1"/>
      </material>
    </visual>
    <collision>
      <origin rpy="0 0 0" xyz="0 0 0.004"/>
      <geometry>
        <box size="0.006 0.009 0.0003"/>
      </geometry>
    </collision>
  </link>
  
  <link name="Distal_1/sensor_3">
    <inertial>
      <mass value="0.00001"/>
      <inertia ixx="0.00000000001" ixy="0.0" ixz="0.0" iyy="0.00000000001" iyz="0.0" izz="0.00000000001"/>
    </inertial>
    <visual>
      <origin rpy="0 0 0" xyz="0 0 0.004"/>
      <geometry>
        <box size="0.006 0.009 0.0003"/>
      </geometry>
            <material name="sensor">
        <color rgba="0 0.3 0 1"/>
      </material>
    </visual>
    <collision>
      <origin rpy="0 0 0" xyz="0 0 0.004"/>
      <geometry>
        <box size="0.006 0.009 0.0003"/>
      </geometry>
    </collision>
  </link>
  
  <link name="Distal_1/sensor_4">
    <inertial>
      <mass value="0.00001"/>
      <inertia ixx="0.00000000001" ixy="0.0" ixz="0.0" iyy="0.00000000001" iyz="0.0" izz="0.00000000001"/>
    </inertial>
    <visual>
      <origin rpy="0 0.78539816339 0" xyz="0 0 0.001"/>
      <geometry>
        <box size="0.006 0.009 0.0003"/>
      </geometry>
            <material name="sensor">
        <color rgba="0 0.3 0 1"/>
      </material>
    </visual>
    <collision>
      <origin rpy="0 0.78539816339 0" xyz="0 0 0.001"/>
      <geometry>
        <box size="0.006 0.009 0.0003"/>
      </geometry>
    </collision>
  </link>
  
  <link name="Proximal_2/sensor_1">
    <inertial>
      <mass value="0.00001"/>
      <inertia ixx="0.00000000001" ixy="0.0" ixz="0.0" iyy="0.00000000001" iyz="0.0" izz="0.00000000001"/>
    </inertial>
    <visual>
      <origin rpy="0 0 0" xyz="0 0 0.00045"/>
      <geometry>
        <box size="0.006 0.009 0.0003"/>
      </geometry>
      <material name="sensor">
        <color rgba="0 0.3 0 1"/>
      </material>
    </visual>
    <collision>
      <origin rpy="0 0 0" xyz="0 0 0.00045"/>
      <geometry>
        <box size="0.006 0.009 0.0003"/>
      </geometry>
    </collision>
  </link>
  
  <link name="Proximal_2/sensor_2">
    <inertial>
      <mass value="0.00001"/>
      <inertia ixx="0.00000000001" ixy="0.0" ixz="0.0" iyy="0.00000000001" iyz="0.0" izz="0.00000000001"/>
    </inertial>
    <visual>
      <origin rpy="0 0 0" xyz="0 0 0.00045"/>
      <geometry>
        <box size="0.006 0.009 0.0003"/>
      </geometry>
            <material name="sensor">
        <color rgba="0 0.3 0 1"/>
      </material>
    </visual>
    <collision>
      <origin rpy="0 0 0" xyz="0 0 0.00045"/>
      <geometry>
        <box size="0.006 0.009 0.0003"/>
      </geometry>
    </collision>
  </link>
  
  <link name="Proximal_2/sensor_3">
    <inertial>
      <mass value="0.00001"/>
      <inertia ixx="0.00000000001" ixy="0.0" ixz="0.0" iyy="0.00000000001" iyz="0.0" izz="0.00000000001"/>
    </inertial>
    <visual>
      <origin rpy="0 0 0" xyz="0 0 0.00045"/>
      <geometry>
        <box size="0.006 0.009 0.0003"/>
      </geometry>
            <material name="sensor">
        <color rgba="0 0.3 0 1"/>
      </material>
    </visual>
    <collision>
      <origin rpy="0 0 0" xyz="0 0 0.00045"/>
      <geometry>
        <box size="0.006 0.009 0.0003"/>
      </geometry>
    </collision>
  </link>
  
  <link name="Proximal_2/sensor_4">
    <inertial>
      <mass value="0.00001"/>
      <inertia ixx="0.00000000001" ixy="0.0" ixz="0.0" iyy="0.00000000001" iyz="0.0" izz="0.00000000001"/>
    </inertial>
    <visual>
      <origin rpy="0 0 0" xyz="0 0 0.00045"/>
      <geometry>
        <box size="0.006 0.009 0.0003"/>
      </geometry>
            <material name="sensor">
        <color rgba="0 0.3 0 1"/>
      </material>
    </visual>
    <collision>
      <origin rpy="0 0 0" xyz="0 0 0.00045"/>
      <geometry>
        <box size="0.006 0.009 0.0003"/>
      </geometry>
    </collision>
  </link>
  
  <link name="Proximal_2/sensor_5">
    <inertial>
      <mass value="0.00001"/>
      <inertia ixx="0.00000000001" ixy="0.0" ixz="0.0" iyy="0.00000000001" iyz="0.0" izz="0.00000000001"/>
    </inertial>
    <visual>
      <origin rpy="0 0 0" xyz="0 0 0.00045"/>
      <geometry>
        <box size="0.006 0.009 0.0003"/>
      </geometry>
            <material name="sensor">
        <color rgba="0 0.3 0 1"/>
      </material>
    </visual>
    <collision>
      <origin rpy="0 0 0" xyz="0 0 0.00045"/>
      <geometry>
        <box size="0.006 0.009 0.0003"/>
      </geometry>
    </collision>
  </link>
  
  <link name="Distal_2/sensor_1">
    <inertial>
      <mass value="0.00001"/>
      <inertia ixx="0.00000000001" ixy="0.0" ixz="0.0" iyy="0.00000000001" iyz="0.0" izz="0.00000000001"/>
    </inertial>
    <visual>
      <origin rpy="0 0 0" xyz="0 0 0.004"/>
      <geometry>
        <box size="0.006 0.009 0.0003"/>
      </geometry>
      <material name="sensor">
        <color rgba="0 0.3 0 1"/>
      </material>
    </visual>
    <collision>
      <origin rpy="0 0 0" xyz="0 0 0.004"/>
      <geometry>
        <box size="0.006 0.009 0.0003"/>
      </geometry>
    </collision>
  </link>
  
  <link name="Distal_2/sensor_2">
    <inertial>
      <mass value="0.00001"/>
      <inertia ixx="0.00000000001" ixy="0.0" ixz="0.0" iyy="0.00000000001" iyz="0.0" izz="0.00000000001"/>
    </inertial>
    <visual>
      <origin rpy="0 0 0" xyz="0 0 0.004"/>
      <geometry>
        <box size="0.006 0.009 0.0003"/>
      </geometry>
      <material name="sensor">
        <color rgba="0 0.3 0 1"/>
      </material>
    </visual>
    <collision>
      <origin rpy="0 0 0" xyz="0 0 0.004"/>
      <geometry>
        <box size="0.006 0.009 0.0003"/>
      </geometry>
    </collision>
  </link>
  
  <link name="Distal_2/sensor_3">
    <inertial>
      <mass value="0.00001"/>
      <inertia ixx="0.00000000001" ixy="0.0" ixz="0.0" iyy="0.00000000001" iyz="0.0" izz="0.00000000001"/>
    </inertial>
    <visual>
      <origin rpy="0 0 0" xyz="0 0 0.004"/>
      <geometry>
        <box size="0.006 0.009 0.0003"/>
      </geometry>
      <material name="sensor">
        <color rgba="0 0.3 0 1"/>
      </material>
    </visual>
    <collision>
      <origin rpy="0 0 0" xyz="0 0 0.004"/>
      <geometry>
        <box size="0.006 0.009 0.0003"/>
      </geometry>
    </collision>
  </link>
  
  <link name="Distal_2/sensor_4">
    <inertial>
      <mass value="0.00001"/>
      <inertia ixx="0.00000000001" ixy="0.0" ixz="0.0" iyy="0.00000000001" iyz="0.0" izz="0.00000000001"/>
    </inertial>
    <visual>
      <origin rpy="0 0.78539816339 0" xyz="0 0 0.001"/>
      <geometry>
        <box size="0.006 0.009 0.0003"/>
      </geometry>
      <material name="sensor">
        <color rgba="0 0.3 0 1"/>
      </material>
    </visual>
    <collision>
      <origin rpy="0 0.78539816339 0" xyz="0 0 0.001"/>
      <geometry>
        <box size="0.006 0.009 0.0003"/>
      </geometry>
    </collision>
  </link>
  
  <link name="Proximal_3/sensor_1">
    <inertial>
      <mass value="0.00001"/>
      <inertia ixx="0.00000000001" ixy="0.0" ixz="0.0" iyy="0.00000000001" iyz="0.0" izz="0.00000000001"/>
    </inertial>
    <visual>
      <origin rpy="0 0 0" xyz="0 0 0.00045"/>
      <geometry>
        <box size="0.006 0.009 0.0003"/>
      </geometry>
      <material name="sensor">
        <color rgba="0 0.3 0 1"/>
      </material>
    </visual>
    <collision>
      <origin rpy="0 0 0" xyz="0 0 0.00045"/>
      <geometry>
        <box size="0.006 0.009 0.0003"/>
      </geometry>
    </collision>
  </link>
  
  <link name="Proximal_3/sensor_2">
    <inertial>
      <mass value="0.00001"/>
      <inertia ixx="0.00000000001" ixy="0.0" ixz="0.0" iyy="0.00000000001" iyz="0.0" izz="0.00000000001"/>
    </inertial>
    <visual>
      <origin rpy="0 0 0" xyz="0 0 0.00045"/>
      <geometry>
        <box size="0.006 0.009 0.0003"/>
      </geometry>
      <material name="sensor">
        <color rgba="0 0.3 0 1"/>
      </material>
    </visual>
    <collision>
      <origin rpy="0 0 0" xyz="0 0 0.00045"/>
      <geometry>
        <box size="0.006 0.009 0.0003"/>
      </geometry>
    </collision>
  </link>
  
  <link name="Proximal_3/sensor_3">
    <inertial>
      <mass value="0.00001"/>
      <inertia ixx="0.00000000001" ixy="0.0" ixz="0.0" iyy="0.00000000001" iyz="0.0" izz="0.00000000001"/>
    </inertial>
    <visual>
      <origin rpy="0 0 0" xyz="0 0 0.00045"/>
      <geometry>
        <box size="0.006 0.009 0.0003"/>
      </geometry>
      <material name="sensor">
        <color rgba="0 0.3 0 1"/>
      </material>
    </visual>
    <collision>
      <origin rpy="0 0 0" xyz="0 0 0.00045"/>
      <geometry>
        <box size="0.006 0.009 0.0003"/>
      </geometry>
    </collision>
  </link>
  
  <link name="Proximal_3/sensor_4">
    <inertial>
      <mass value="0.00001"/>
      <inertia ixx="0.00000000001" ixy="0.0" ixz="0.0" iyy="0.00000000001" iyz="0.0" izz="0.00000000001"/>
    </inertial>
    <visual>
      <origin rpy="0 0 0" xyz="0 0 0.00045"/>
      <geometry>
        <box size="0.006 0.009 0.0003"/>
      </geometry>
      <material name="sensor">
        <color rgba="0 0.3 0 1"/>
      </material>
    </visual>
    <collision>
      <origin rpy="0 0 0" xyz="0 0 0.00045"/>
      <geometry>
        <box size="0.006 0.009 0.0003"/>
      </geometry>
    </collision>
  </link>
  
  <link name="Proximal_3/sensor_5">
    <inertial>
      <mass value="0.00001"/>
      <inertia ixx="0.00000000001" ixy="0.0" ixz="0.0" iyy="0.00000000001" iyz="0.0" izz="0.00000000001"/>
    </inertial>
    <visual>
      <origin rpy="0 0 0" xyz="0 0 0.00045"/>
      <geometry>
        <box size="0.006 0.009 0.0003"/>
      </geometry>
      <material name="sensor">
        <color rgba="0 0.3 0 1"/>
      </material>
    </visual>
    <collision>
      <origin rpy="0 0 0" xyz="0 0 0.00045"/>
      <geometry>
        <box size="0.006 0.009 0.0003"/>
      </geometry>
    </collision>
  </link>
  <link name="Distal_3/sensor_1">
    <inertial>
      <mass value="0.00001"/>
      <inertia ixx="0.00000000001" ixy="0.0" ixz="0.0" iyy="0.00000000001" iyz="0.0" izz="0.00000000001"/>
    </inertial>
    <visual>
      <origin rpy="0 0 0" xyz="0 0 0.004"/>
      <geometry>
        <box size="0.006 0.009 0.0003"/>
      </geometry>
      <material name="sensor">
        <color rgba="0 0.3 0 1"/>
      </material>
    </visual>
    <collision>
      <origin rpy="0 0 0" xyz="0 0 0.004"/>
      <geometry>
        <box size="0.006 0.009 0.0003"/>
      </geometry>
    </collision>
  </link>
  
  <link name="Distal_3/sensor_2">
    <inertial>
      <mass value="0.00001"/>
      <inertia ixx="0.00000000001" ixy="0.0" ixz="0.0" iyy="0.00000000001" iyz="0.0" izz="0.00000000001"/>
    </inertial>
    <visual>
      <origin rpy="0 0 0" xyz="0 0 0.004"/>
      <geometry>
        <box size="0.006 0.009 0.0003"/>
      </geometry>
      <material name="sensor">
        <color rgba="0 0.3 0 1"/>
      </material>
    </visual>
    <collision>
      <origin rpy="0 0 0" xyz="0 0 0.004"/>
      <geometry>
        <box size="0.006 0.009 0.0003"/>
      </geometry>
    </collision>
  </link>
  
  <link name="Distal_3/sensor_3">
    <inertial>
      <mass value="0.00001"/>
      <inertia ixx="0.00000000001" ixy="0.0" ixz="0.0" iyy="0.00000000001" iyz="0.0" izz="0.00000000001"/>
    </inertial>
    <visual>
      <origin rpy="0 0 0" xyz="0 0 0.004"/>
      <geometry>
        <box size="0.006 0.009 0.0003"/>
      </geometry>
      <material name="sensor">
        <color rgba="0 0.3 0 1"/>
      </material>
    </visual>
    <collision>
      <origin rpy="0 0 0" xyz="0 0 0.004"/>
      <geometry>
        <box size="0.006 0.009 0.0003"/>
      </geometry>
    </collision>
  </link>
  
  <link name="Distal_3/sensor_4">
    <inertial>
      <mass value="0.00001"/>
      <inertia ixx="0.00000000001" ixy="0.0" ixz="0.0" iyy="0.00000000001" iyz="0.0" izz="0.00000000001"/>
    </inertial>
    <visual>
      <origin rpy="0 0.78539816339 0" xyz="0 0 0.001"/>
      <geometry>
        <box size="0.006 0.009 0.0003"/>
      </geometry>
      <material name="sensor">
        <color rgba="0 0.3 0 1"/>
      </material>
    </visual>
    <collision>
      <origin rpy="0 0.78539816339 0" xyz="0 0 0.001"/>
      <geometry>
        <box size="0.006 0.009 0.0003"/>
      </geometry>
    </collision>
  </link>
  
  
<!-- =================================================================================== -->
<!-- =================================================================================== -->
<!-- =================================================================================== -->
<!-- =================================================================================== -->
<!-- ''Aiming end-effector'' sphere starts here -->


  <joint name="aiming_joint" type="fixed">
    <origin rpy="0 0 0" xyz="0 0 0.12"/>
    <parent link="panda_link8"/>
    <child link="end_effector"/>
    <axis xyz="0 0 0"/>
  </joint>
  
  <link name="end_effector">
  
  <inertial>
      <mass value="0"/>
      <inertia ixx="0" ixy="0.0" ixz="0.0" iyy="0" iyz="0.0" izz="0"/>
    </inertial>
  
    <visual>
      <origin rpy="0 0 0" xyz="0 0 0"/>
      <geometry>
        <sphere radius="0.02"/>
      </geometry>
      <material name="sensor">
        <color rgba="1 0 0 1"/>
      </material>
    </visual>

  </link>



<!-- ''Aiming end-effector'' ends here -->
<!-- =================================================================================== -->
<!-- =================================================================================== -->
<!-- =================================================================================== -->

  
  
  
  
  
  
  
  
</robot>
